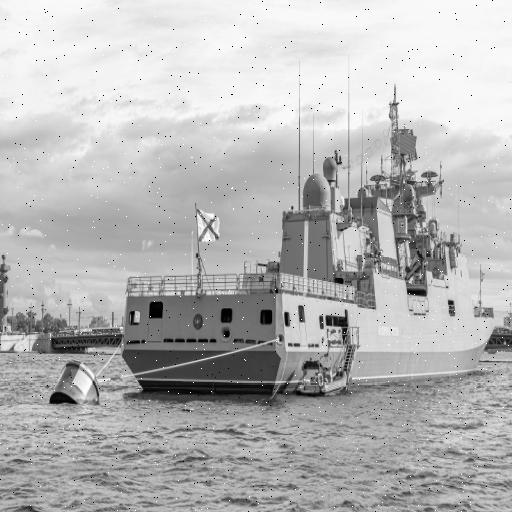Fragata: (119, 76, 499, 399)
